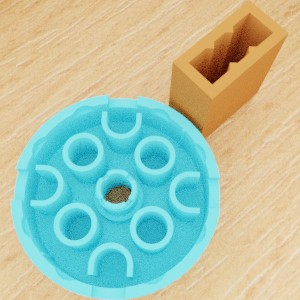3245c: (167, 0, 288, 146)
87081: (10, 94, 220, 300)
